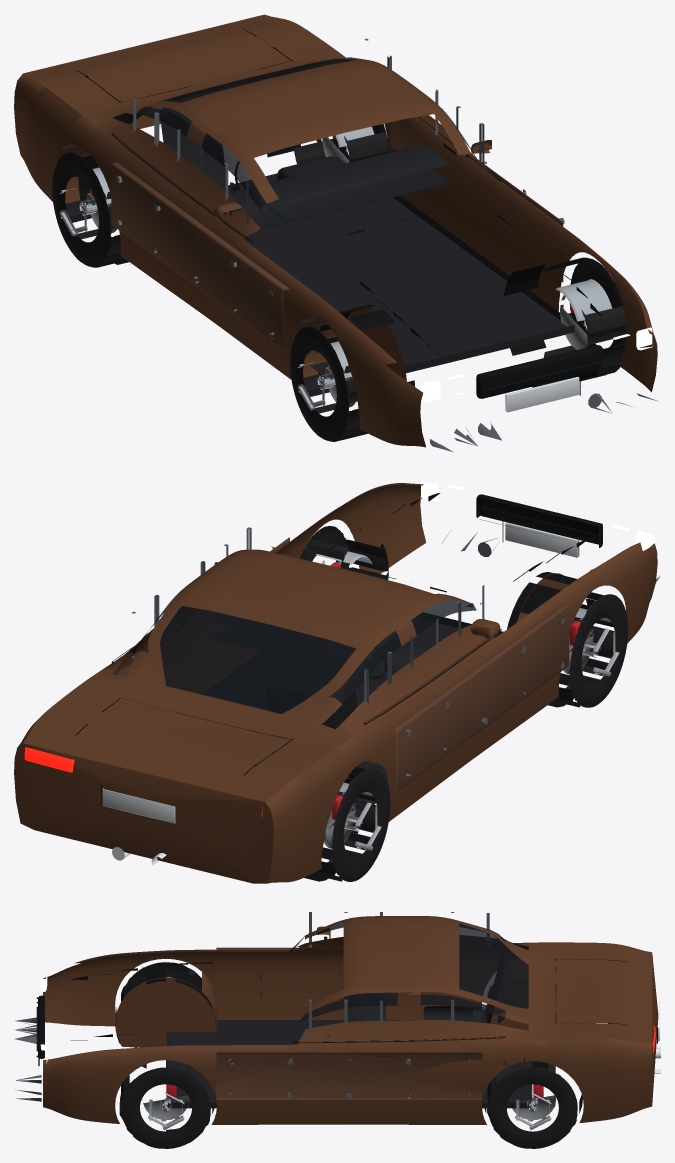
File: armored-muscle.glb
3 renders of one model, top to bottom at view 1: azimuth 30°, elevation 25°; view 2: azimuth 150°, elevation 25°; view 3: azimuth 270°, elevation 25°, orthographic. The views are drawn at different scales.
Parts seen in each view (by area): view 1: Body, WheelFR, WheelFL, WheelRL, WheelRR; view 2: Body, WheelRL, WheelFL, WheelFR; view 3: Body, WheelRR, WheelFR, WheelFL.
Boxes of the visible parts, left/top/right/bottom form: Body: left=14, top=14, right=659, bottom=452; WheelFR: left=537, top=257, right=626, bottom=381; WheelFL: left=290, top=322, right=367, bottom=441; WheelRL: left=52, top=148, right=126, bottom=267; WheelRR: left=293, top=124, right=388, bottom=164; Body: left=14, top=481, right=660, bottom=883; WheelRL: left=311, top=767, right=390, bottom=881; WheelFL: left=553, top=592, right=628, bottom=707; WheelFR: left=300, top=526, right=388, bottom=579; Body: left=15, top=912, right=660, bottom=1131; WheelRR: left=487, top=1063, right=577, bottom=1148; WheelFR: left=120, top=1062, right=210, bottom=1148; WheelFL: left=121, top=962, right=201, bottom=1047.
Bounding box in the file's own units: 2.13 × 1.34 × 5.15.
